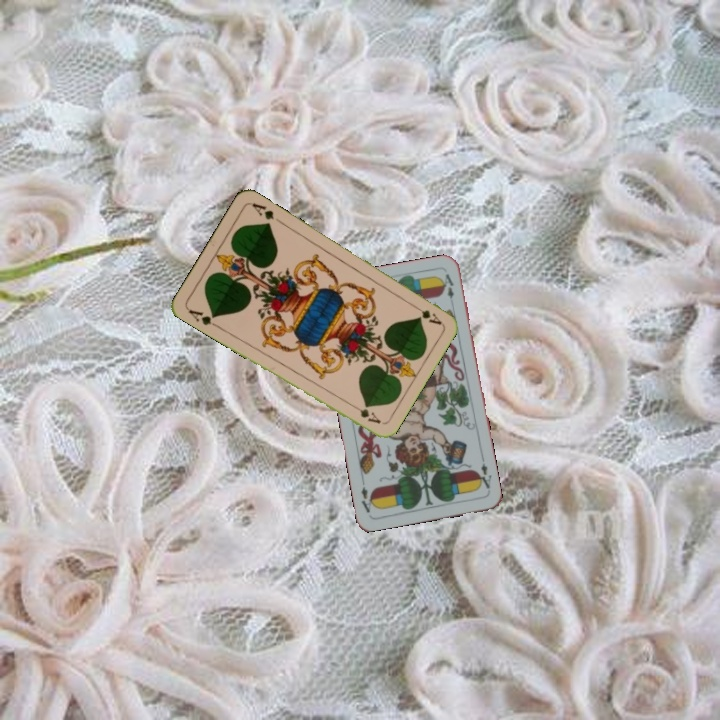EA: (473, 454, 494, 494)
GA: (407, 300, 444, 328), (184, 305, 221, 330)
